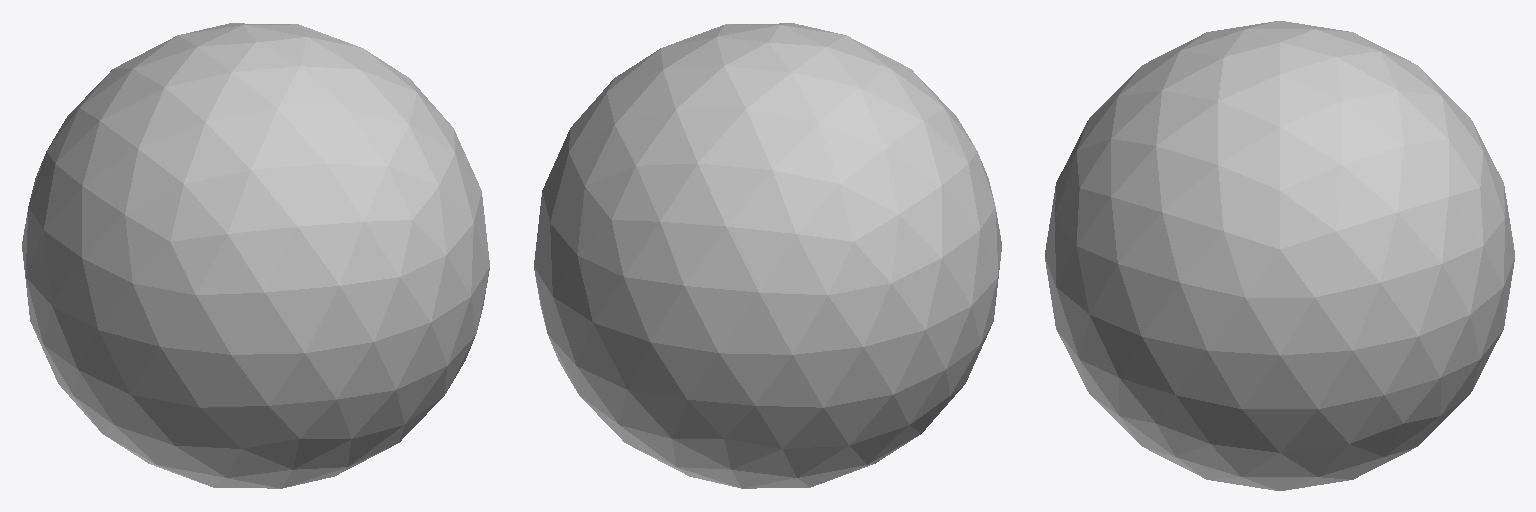
Rendered from item_tank_sphere2.obj.
The picture shows the model from 3 angles: view 1: azimuth 30°, elevation 25°; view 2: azimuth 150°, elevation 25°; view 3: azimuth 270°, elevation 25°; orthographic projection.
Parts seen in each view (by area): view 1: Icosphere_Icosphere.004; view 2: Icosphere_Icosphere.004; view 3: Icosphere_Icosphere.004.
Part boxes in pixels (x1,y1,x2,y2): Icosphere_Icosphere.004: (22,23,489,488); Icosphere_Icosphere.004: (534,23,1001,488); Icosphere_Icosphere.004: (1045,21,1514,490).
Size of the model in its own units: 0.4 by 0.4 by 0.4.